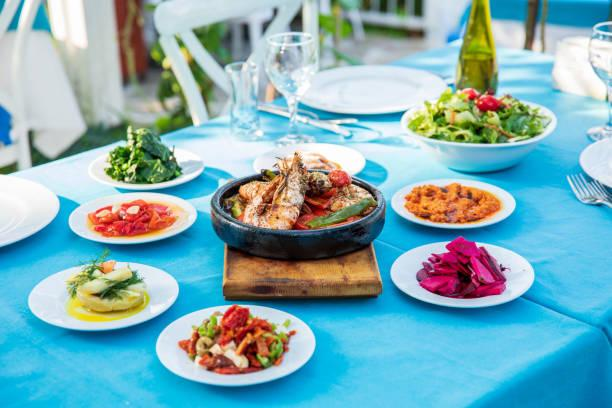Braised Crucian Carp: (209, 169, 383, 260), (26, 243, 176, 348), (156, 305, 316, 387), (382, 234, 537, 309), (404, 99, 555, 172), (76, 187, 203, 249), (397, 176, 515, 229), (88, 148, 202, 190)
